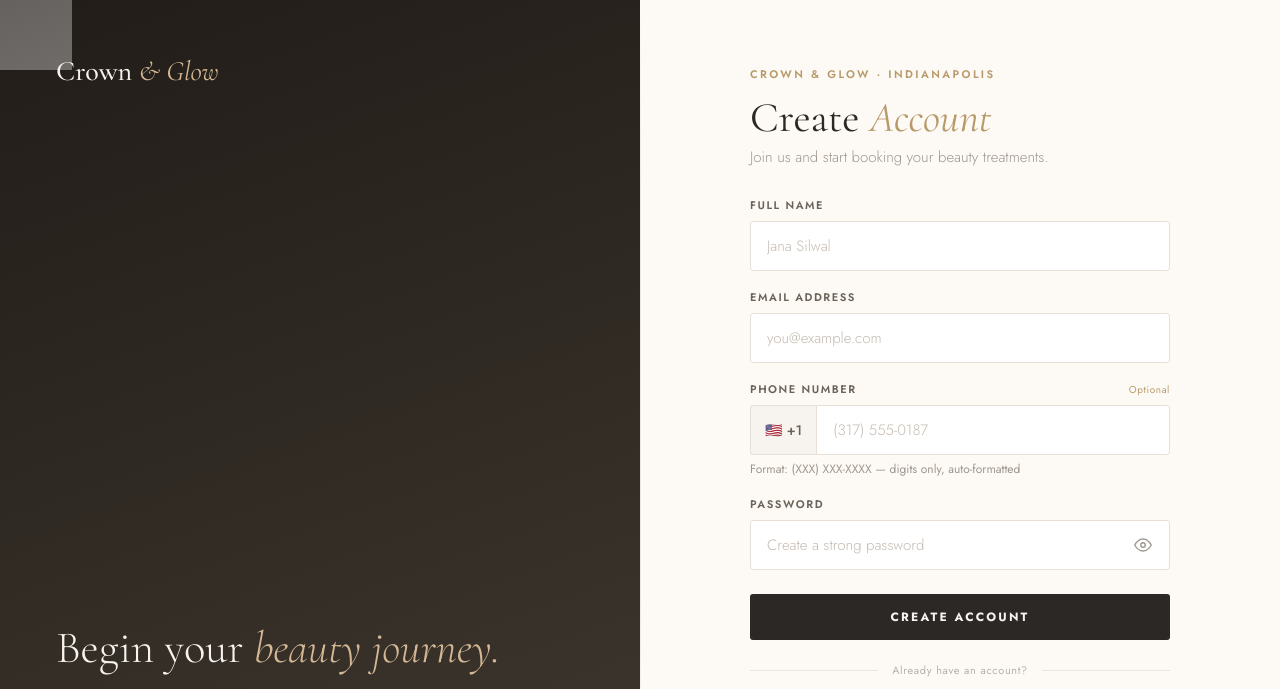
Test: <RegisterPage /> › shows the server error message when registration fails
The image size is (1280, 689).
Type "Jane Doe" into the field labelled "Full Name" at (960, 246), box [750, 221, 1170, 271]
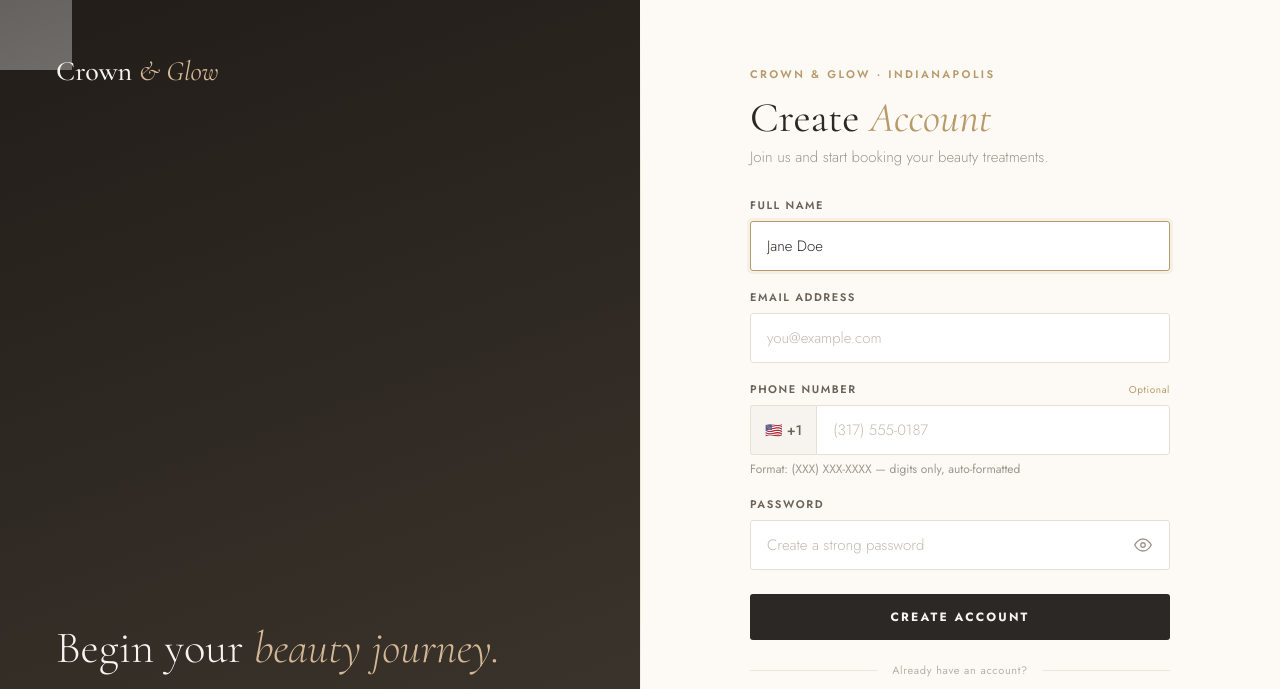
Type "jane@example.com" into the field labelled "Email Address" at (960, 338), box [750, 313, 1170, 363]
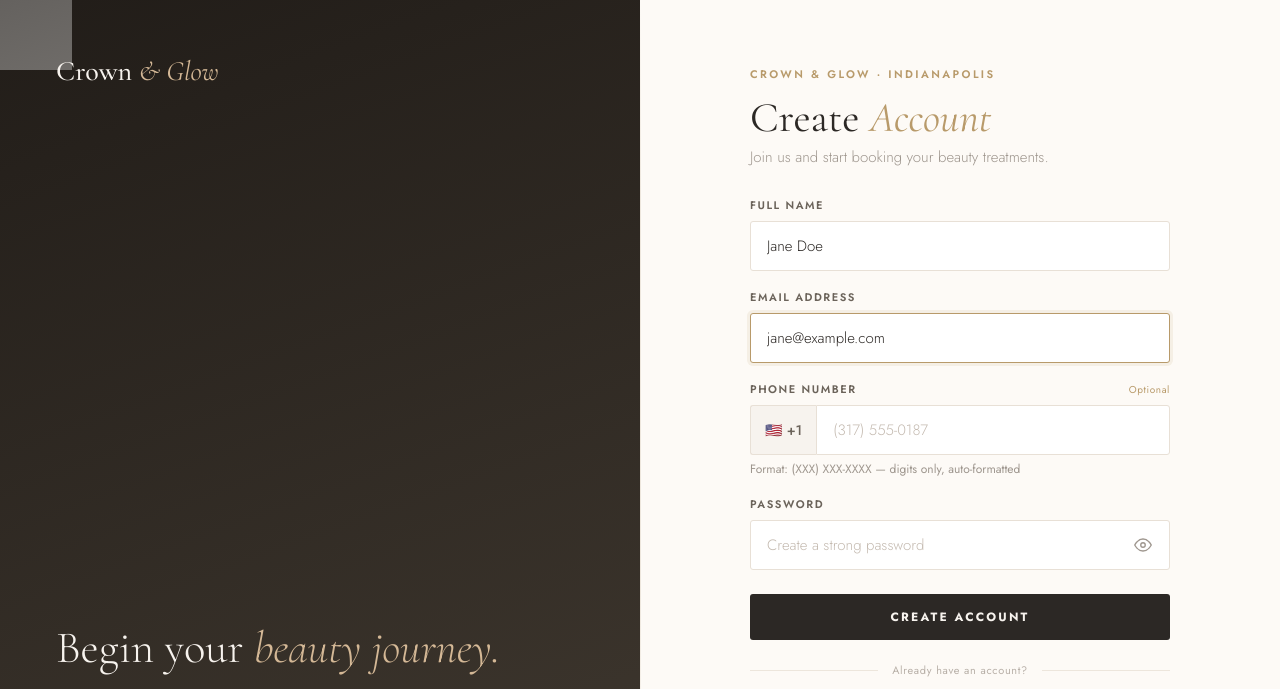
Type "TestPass123!" into the password field labelled "Password" at (960, 545), box [750, 520, 1170, 570]
(page scrolled)
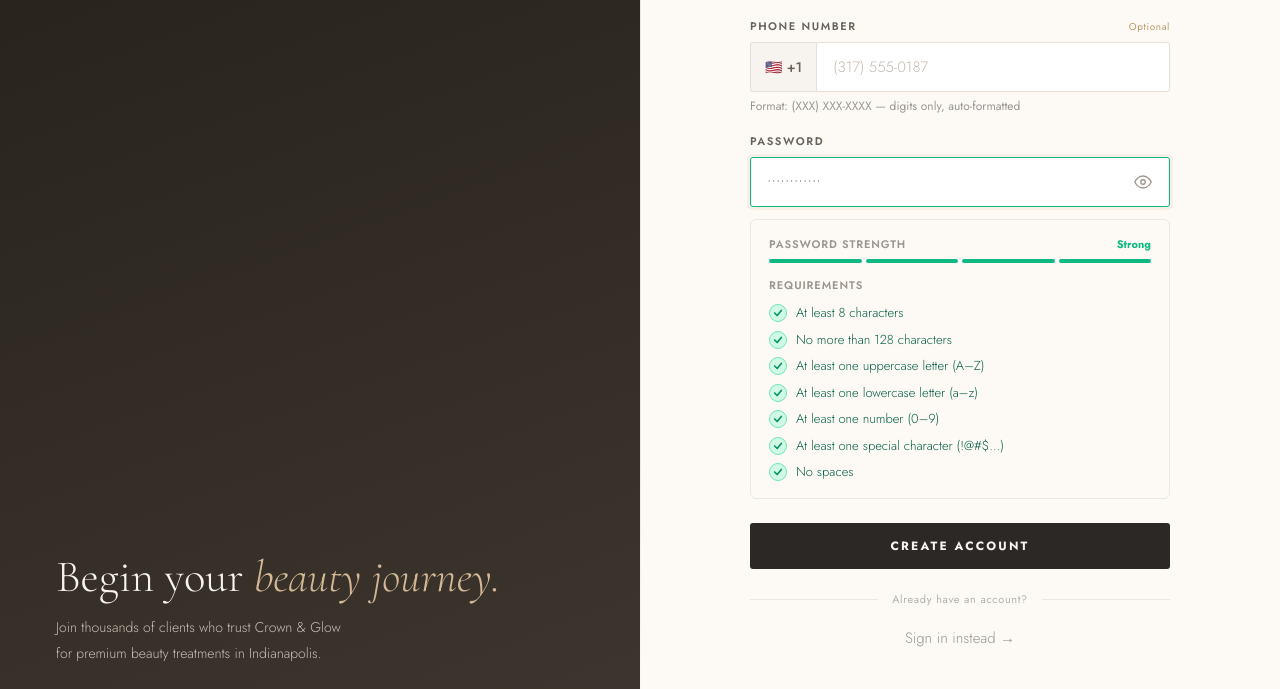
Click the button "Create Account" at (960, 546), box [750, 523, 1170, 569]
(page scrolled)
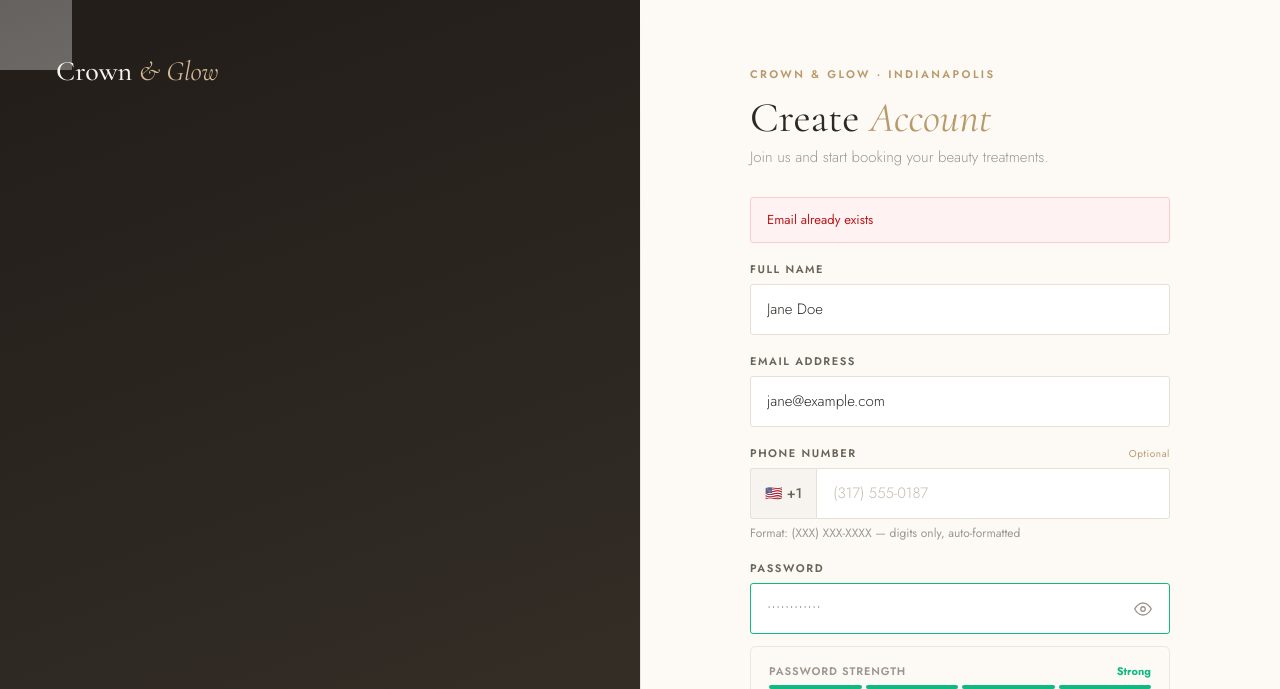
Now the message reads "Email already exists", box [767, 210, 873, 229]
